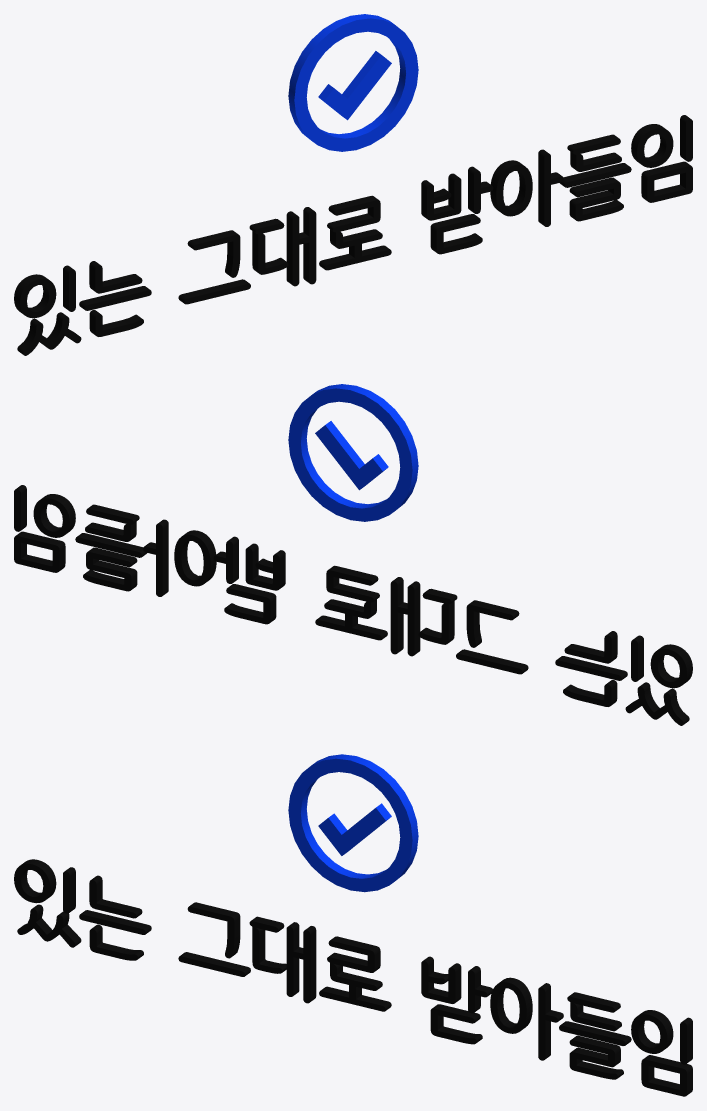
File: #02_Obj_CheckMark.FBX
The picture shows the model from 3 angles, top to bottom: view 1: azimuth 30°, elevation 25°; view 2: azimuth 150°, elevation 25°; view 3: azimuth 330°, elevation 25°; orthographic projection.
Parts seen in each view (by area): view 1: Text024, check001; view 2: Text024, check001; view 3: Text024, check001.
Boxes of the visible parts, <box> form: Text024: <box>14,115,692,355</box>; check001: <box>288,14,418,151</box>; Text024: <box>14,485,692,725</box>; check001: <box>288,384,418,521</box>; Text024: <box>14,859,692,1096</box>; check001: <box>288,754,418,892</box>.
Bounding box in the file's own units: 3250 × 50 × 1180.
